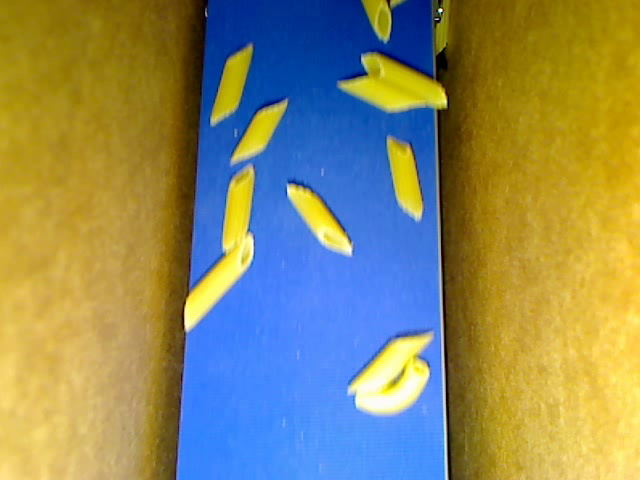elbow: (353, 357, 428, 414)
penne: (182, 227, 255, 330), (345, 327, 435, 397), (359, 49, 448, 112), (285, 180, 355, 256), (227, 95, 292, 165), (210, 40, 255, 125), (332, 74, 425, 113), (384, 133, 422, 220), (223, 160, 257, 255), (357, 1, 397, 45), (432, 1, 455, 57)
